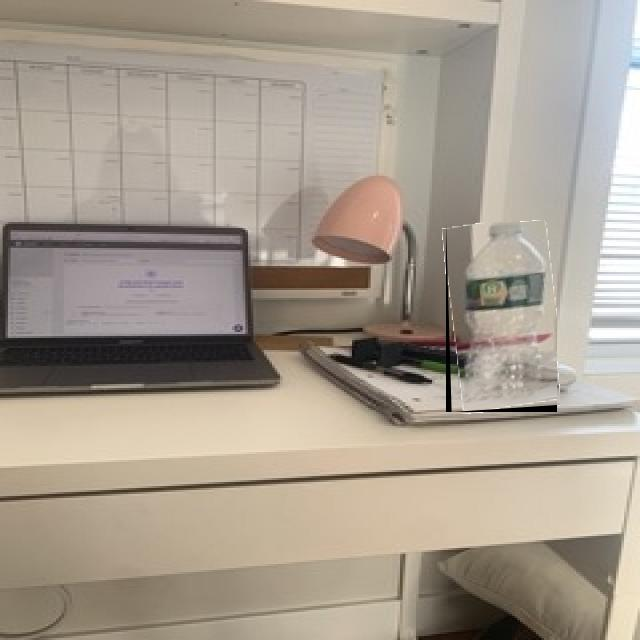water_bottle: (446, 222, 557, 412)
